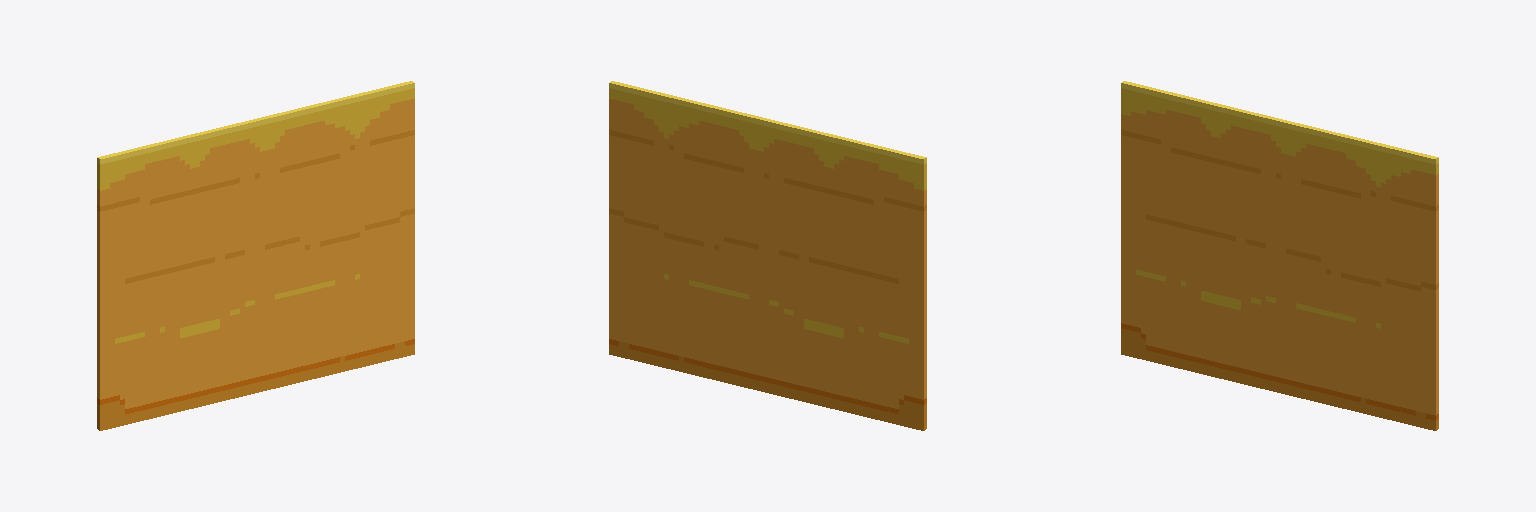
3 views of the same model, side by side, from view 1: azimuth 30°, elevation 25°; view 2: azimuth 150°, elevation 25°; view 3: azimuth 330°, elevation 25° (orthographic).
Size of the model in its own units: 63 by 52 by 1.
1 materials, 1 textured.